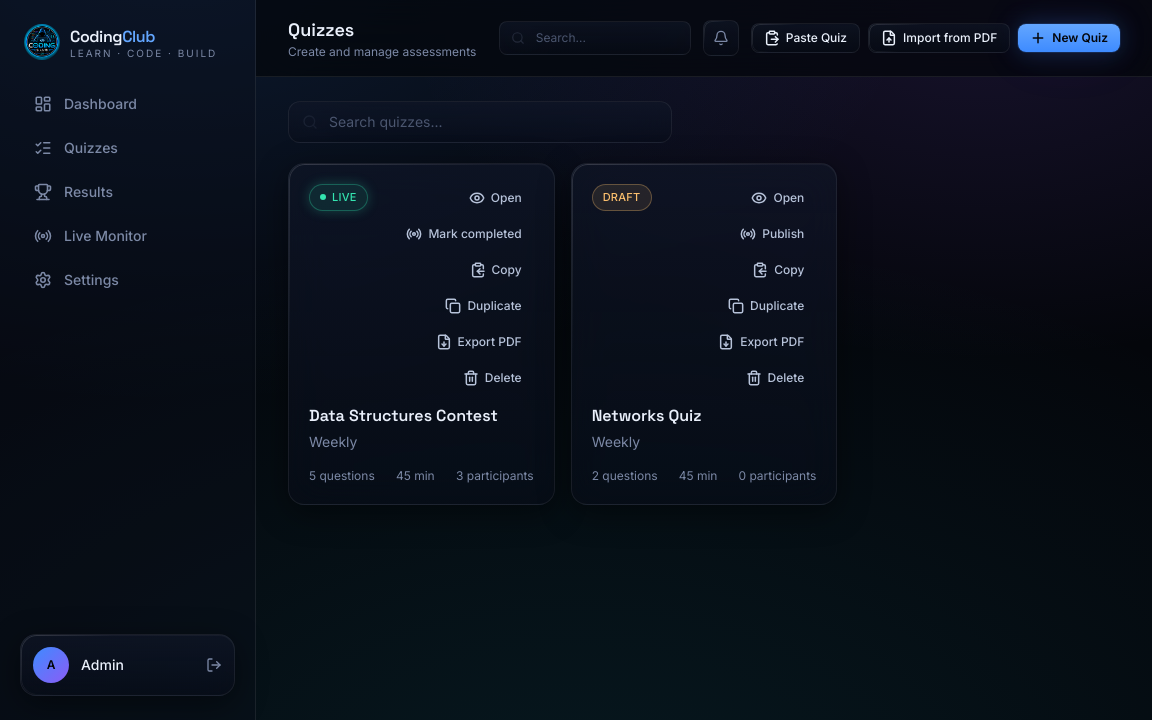
Admin Quizzes — Copy Quiz / Paste Quiz › Copy fetches the full snapshot, keeps it, and shows what was copied
Expected: the heading "Data Structures Contest" is shown, [309, 404, 498, 428]
Click the 1st button "Copy" at (496,270), box [458, 256, 534, 284]
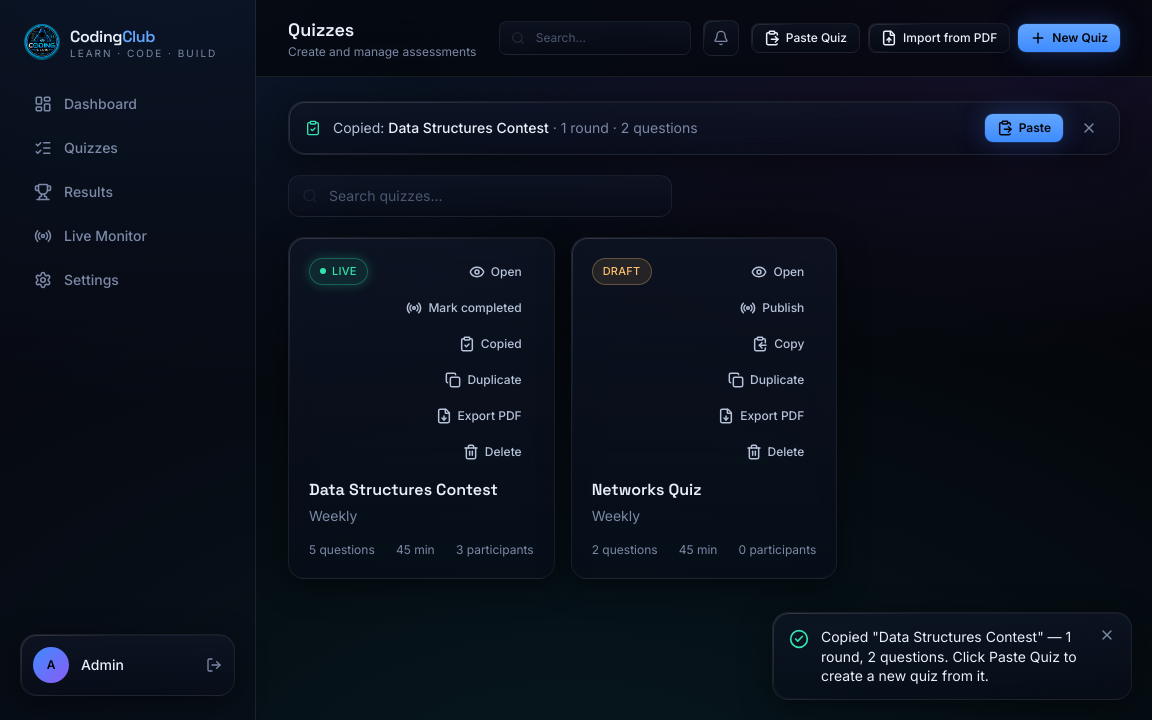
Now the text "Copied \"Data Structures Contest\" — 1 round, 2 questions" is shown, box [821, 628, 1077, 684]
Now the text "Copied: Data Structures Contest · 1 round · 2 questions" is shown, box [333, 119, 698, 136]
Now the button "Copied" is shown, box [447, 330, 534, 358]
